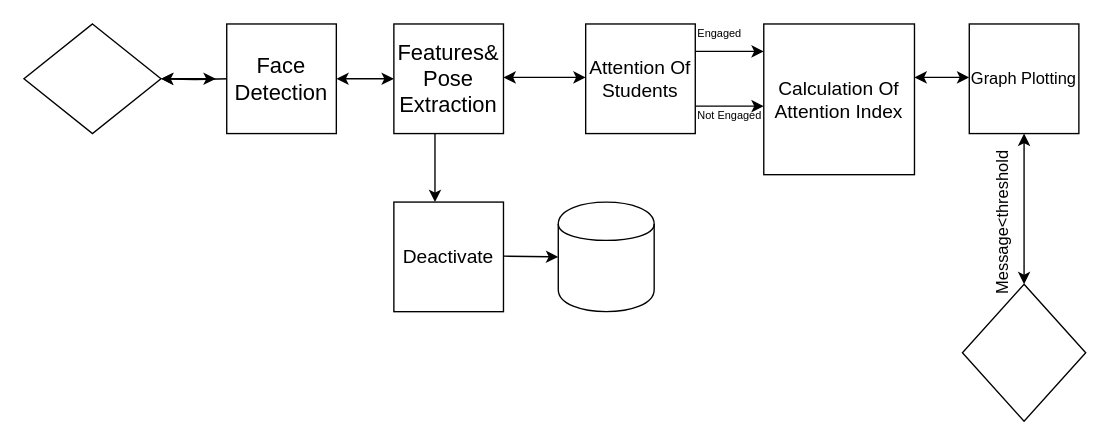
The diagram is 1110 pixels wide and 445 high, and some of its shapes have lost their labels. The shapes that lost their labels are listed below. From the top down, each one's box as (x1, y1, x2, y2) in pixels, then its label:
(23, 23, 161, 134): Student
(557, 201, 654, 312): Database
(961, 283, 1086, 421): T eacher
